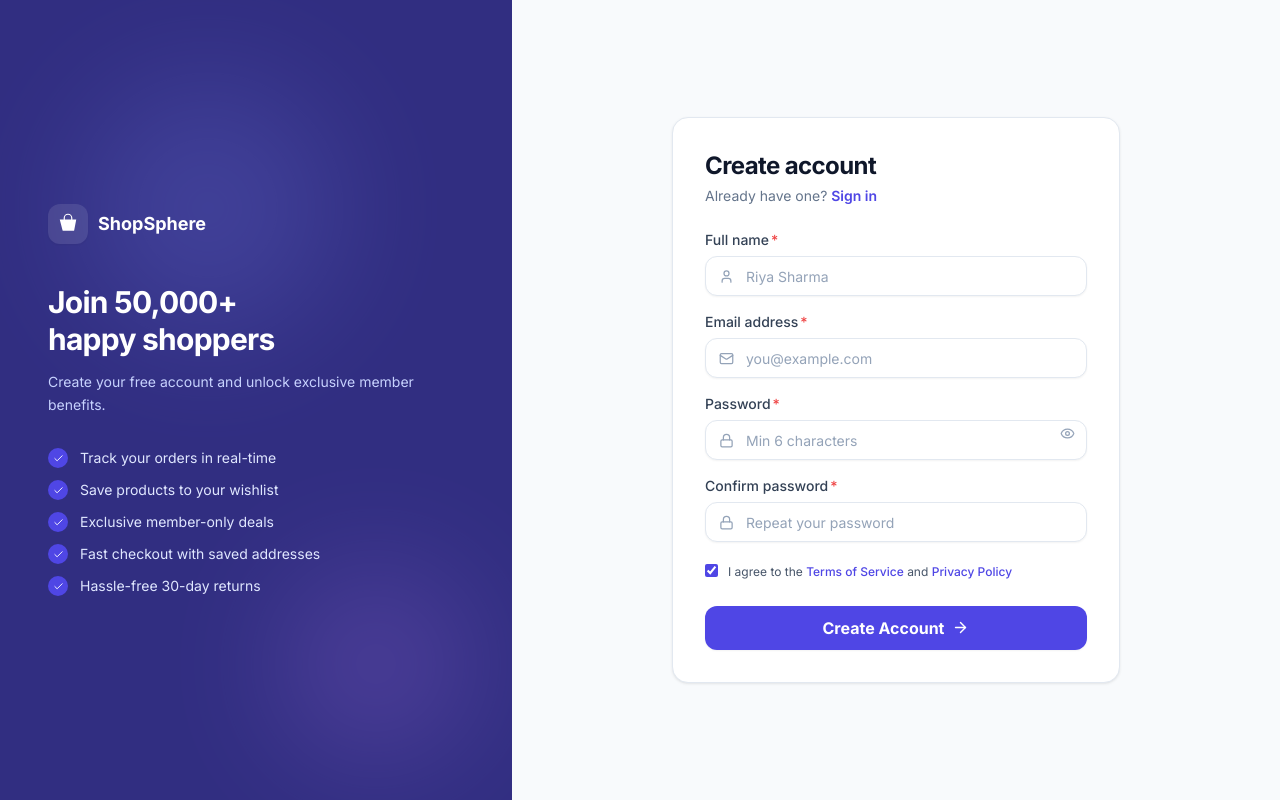
Scenario: RegisterPage QA Pass › retains non-password data (name, email) and clears password fields on registration failure
Type "Alice Doe" into the field labelled "Full name*". click: coordinates (896, 276)
box: top-left (705, 256), bottom-right (1087, 296)
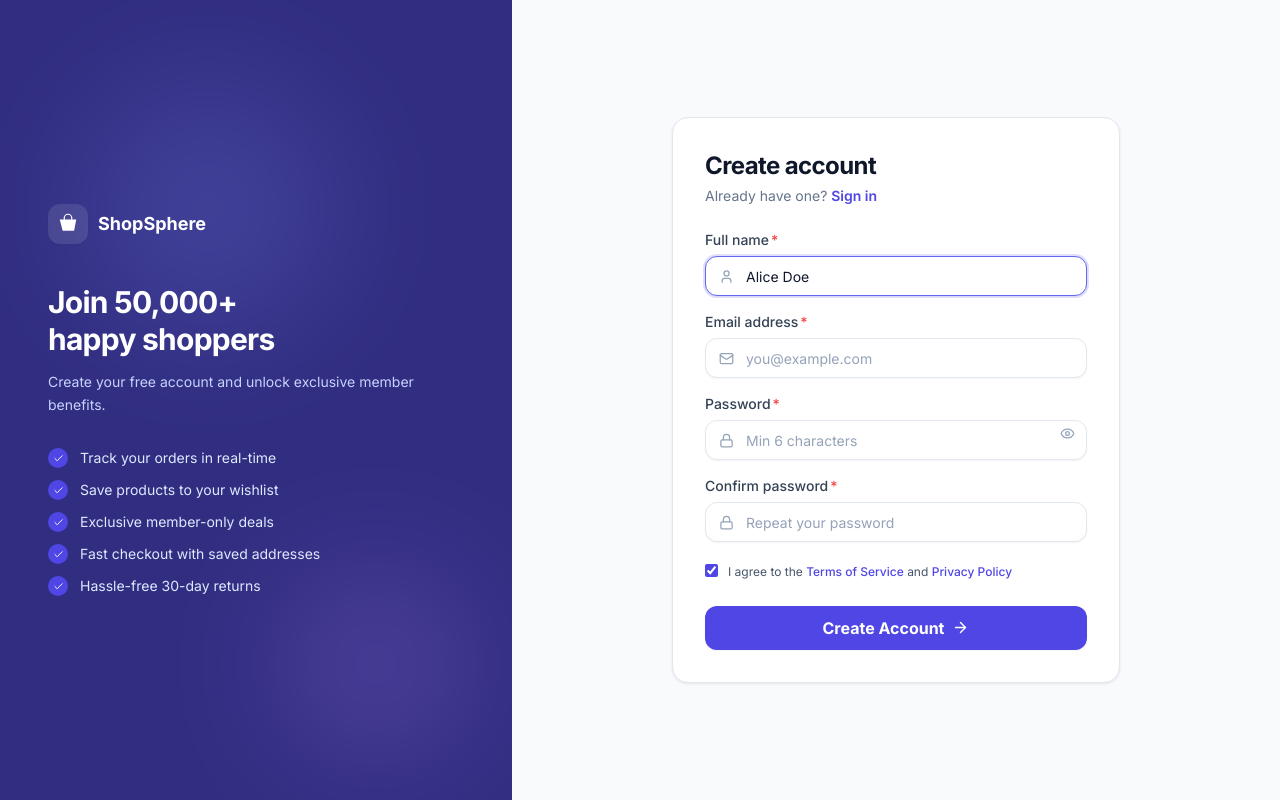
Type "alice@example.com" into the field labelled "Email address*". click: coordinates (896, 358)
box: top-left (705, 338), bottom-right (1087, 378)
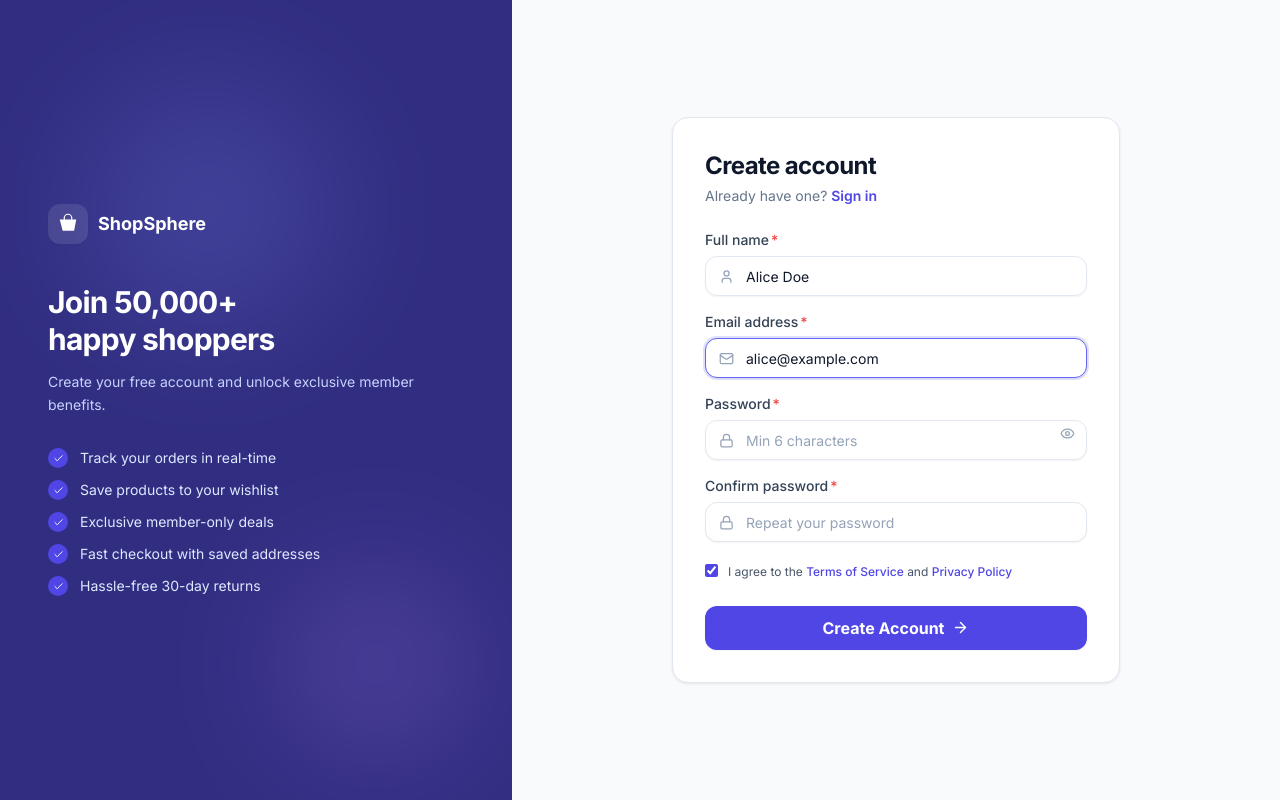
Type "Password123" into the password field labelled "Password*". click: coordinates (896, 440)
box: top-left (705, 420), bottom-right (1087, 460)
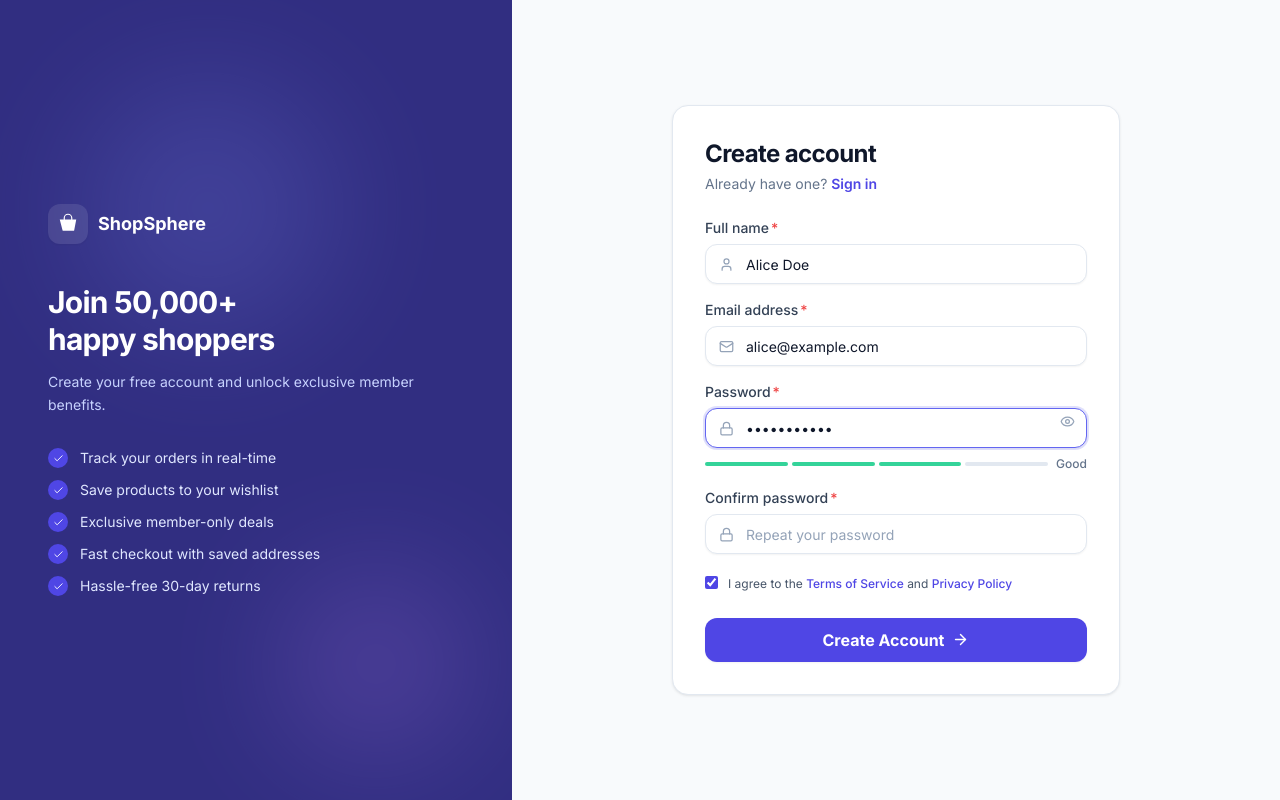
Type "Password123" into the password field labelled "Confirm password*". click: coordinates (896, 534)
box: top-left (705, 514), bottom-right (1087, 554)
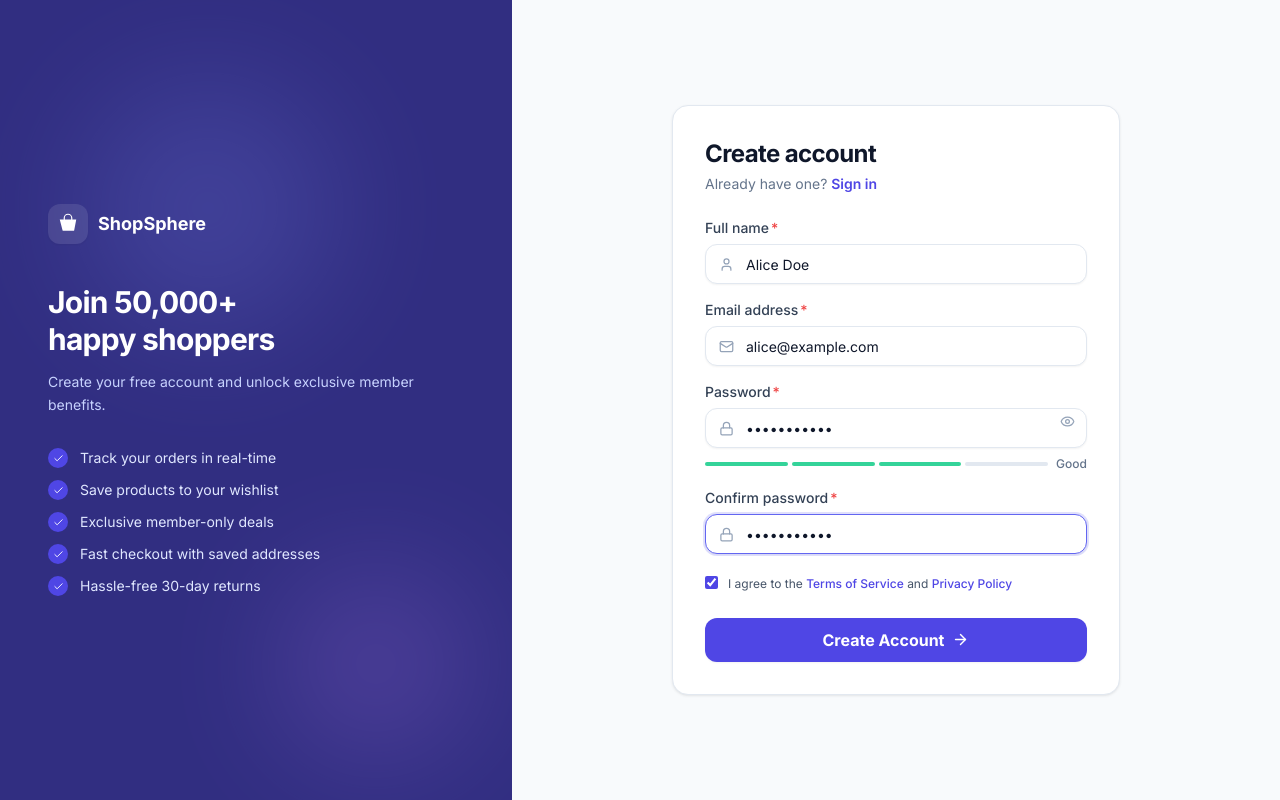
Click the button "Create Account". click: coordinates (896, 640)
box: top-left (705, 618), bottom-right (1087, 662)
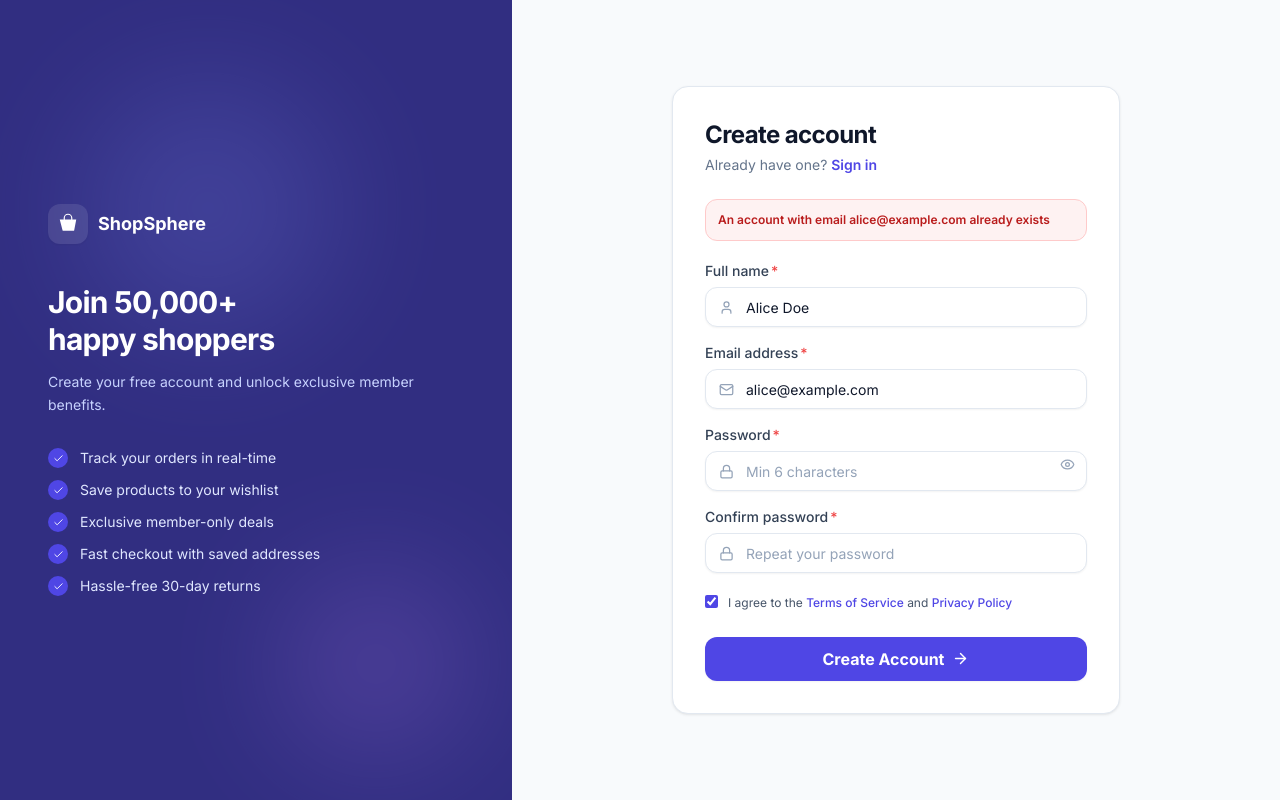
Expected: the text "An account with email alice@example.com already exists" is shown, top-left (705, 199), bottom-right (1087, 241)
Expected: the password field labelled "Password*" is empty, top-left (705, 451), bottom-right (1087, 491)
Expected: the password field labelled "Confirm password*" is empty, top-left (705, 533), bottom-right (1087, 573)
